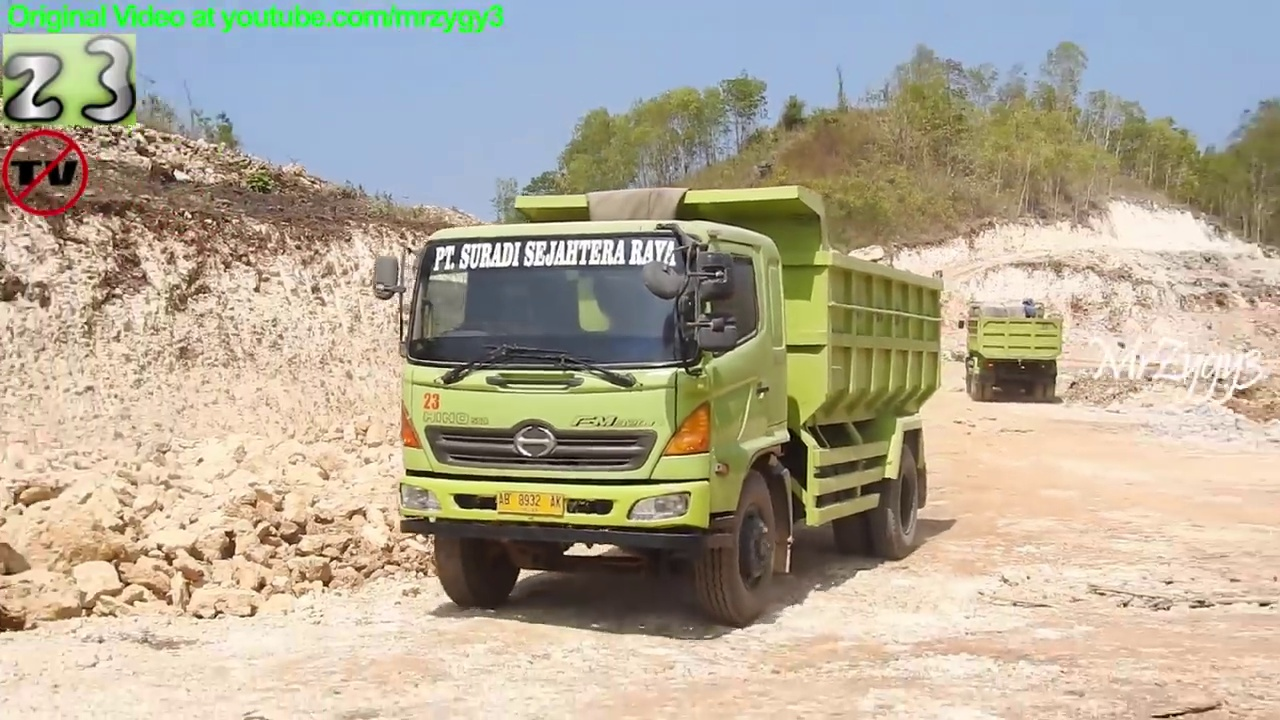truck: (371, 181, 950, 633), (955, 300, 1068, 406)
